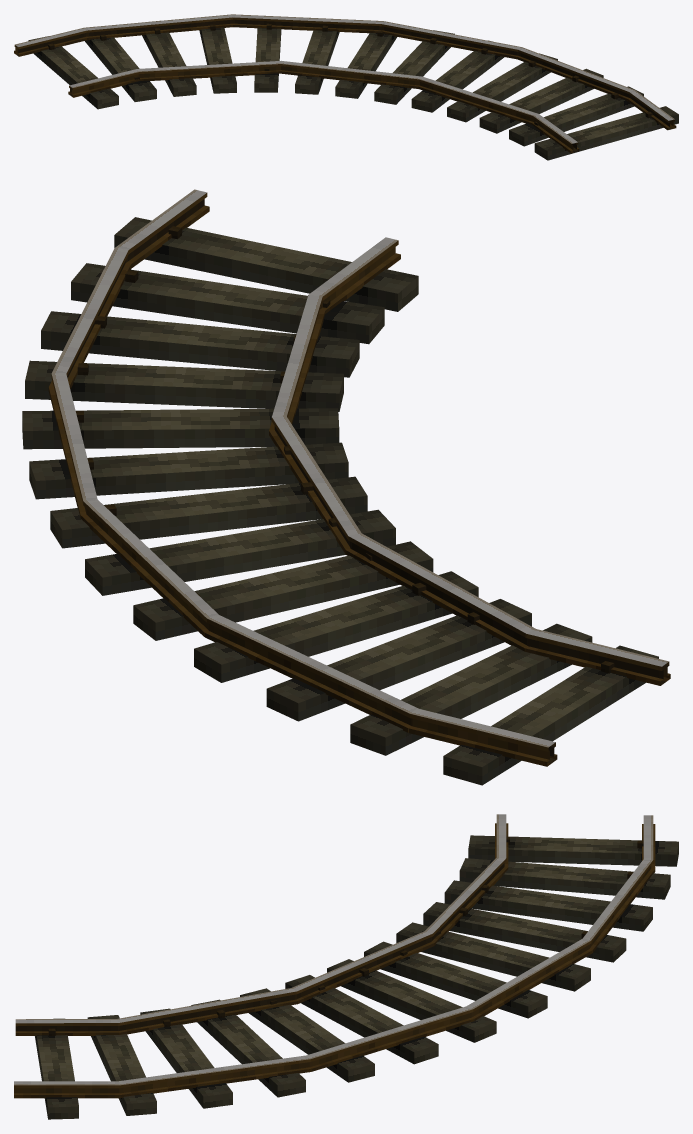
File: testCurve.obj
The picture shows the model from 3 angles, top to bottom: view 1: azimuth 30°, elevation 25°; view 2: azimuth 150°, elevation 25°; view 3: azimuth 270°, elevation 25°; orthographic projection. The views are drawn at different scales.
Parts seen in each view (by area): view 1: Cube_2; view 2: Cube_2; view 3: Cube_2.
Part boxes in pixels (bbox=[...]): Cube_2: bbox=[14, 14, 678, 160]; Cube_2: bbox=[22, 189, 670, 785]; Cube_2: bbox=[14, 814, 678, 1119].
Bounding box in the file's own units: 3 × 0.1158 × 2.99.
